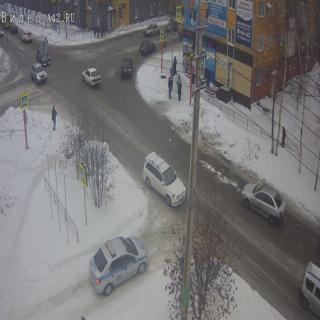small-vehicle: (142, 149, 186, 214), (86, 248, 148, 290), (244, 172, 281, 224), (30, 61, 48, 86), (118, 56, 134, 82), (81, 64, 98, 88), (36, 44, 52, 65), (144, 22, 160, 40), (163, 16, 177, 36), (140, 42, 156, 58), (8, 19, 18, 36), (20, 28, 31, 42)
